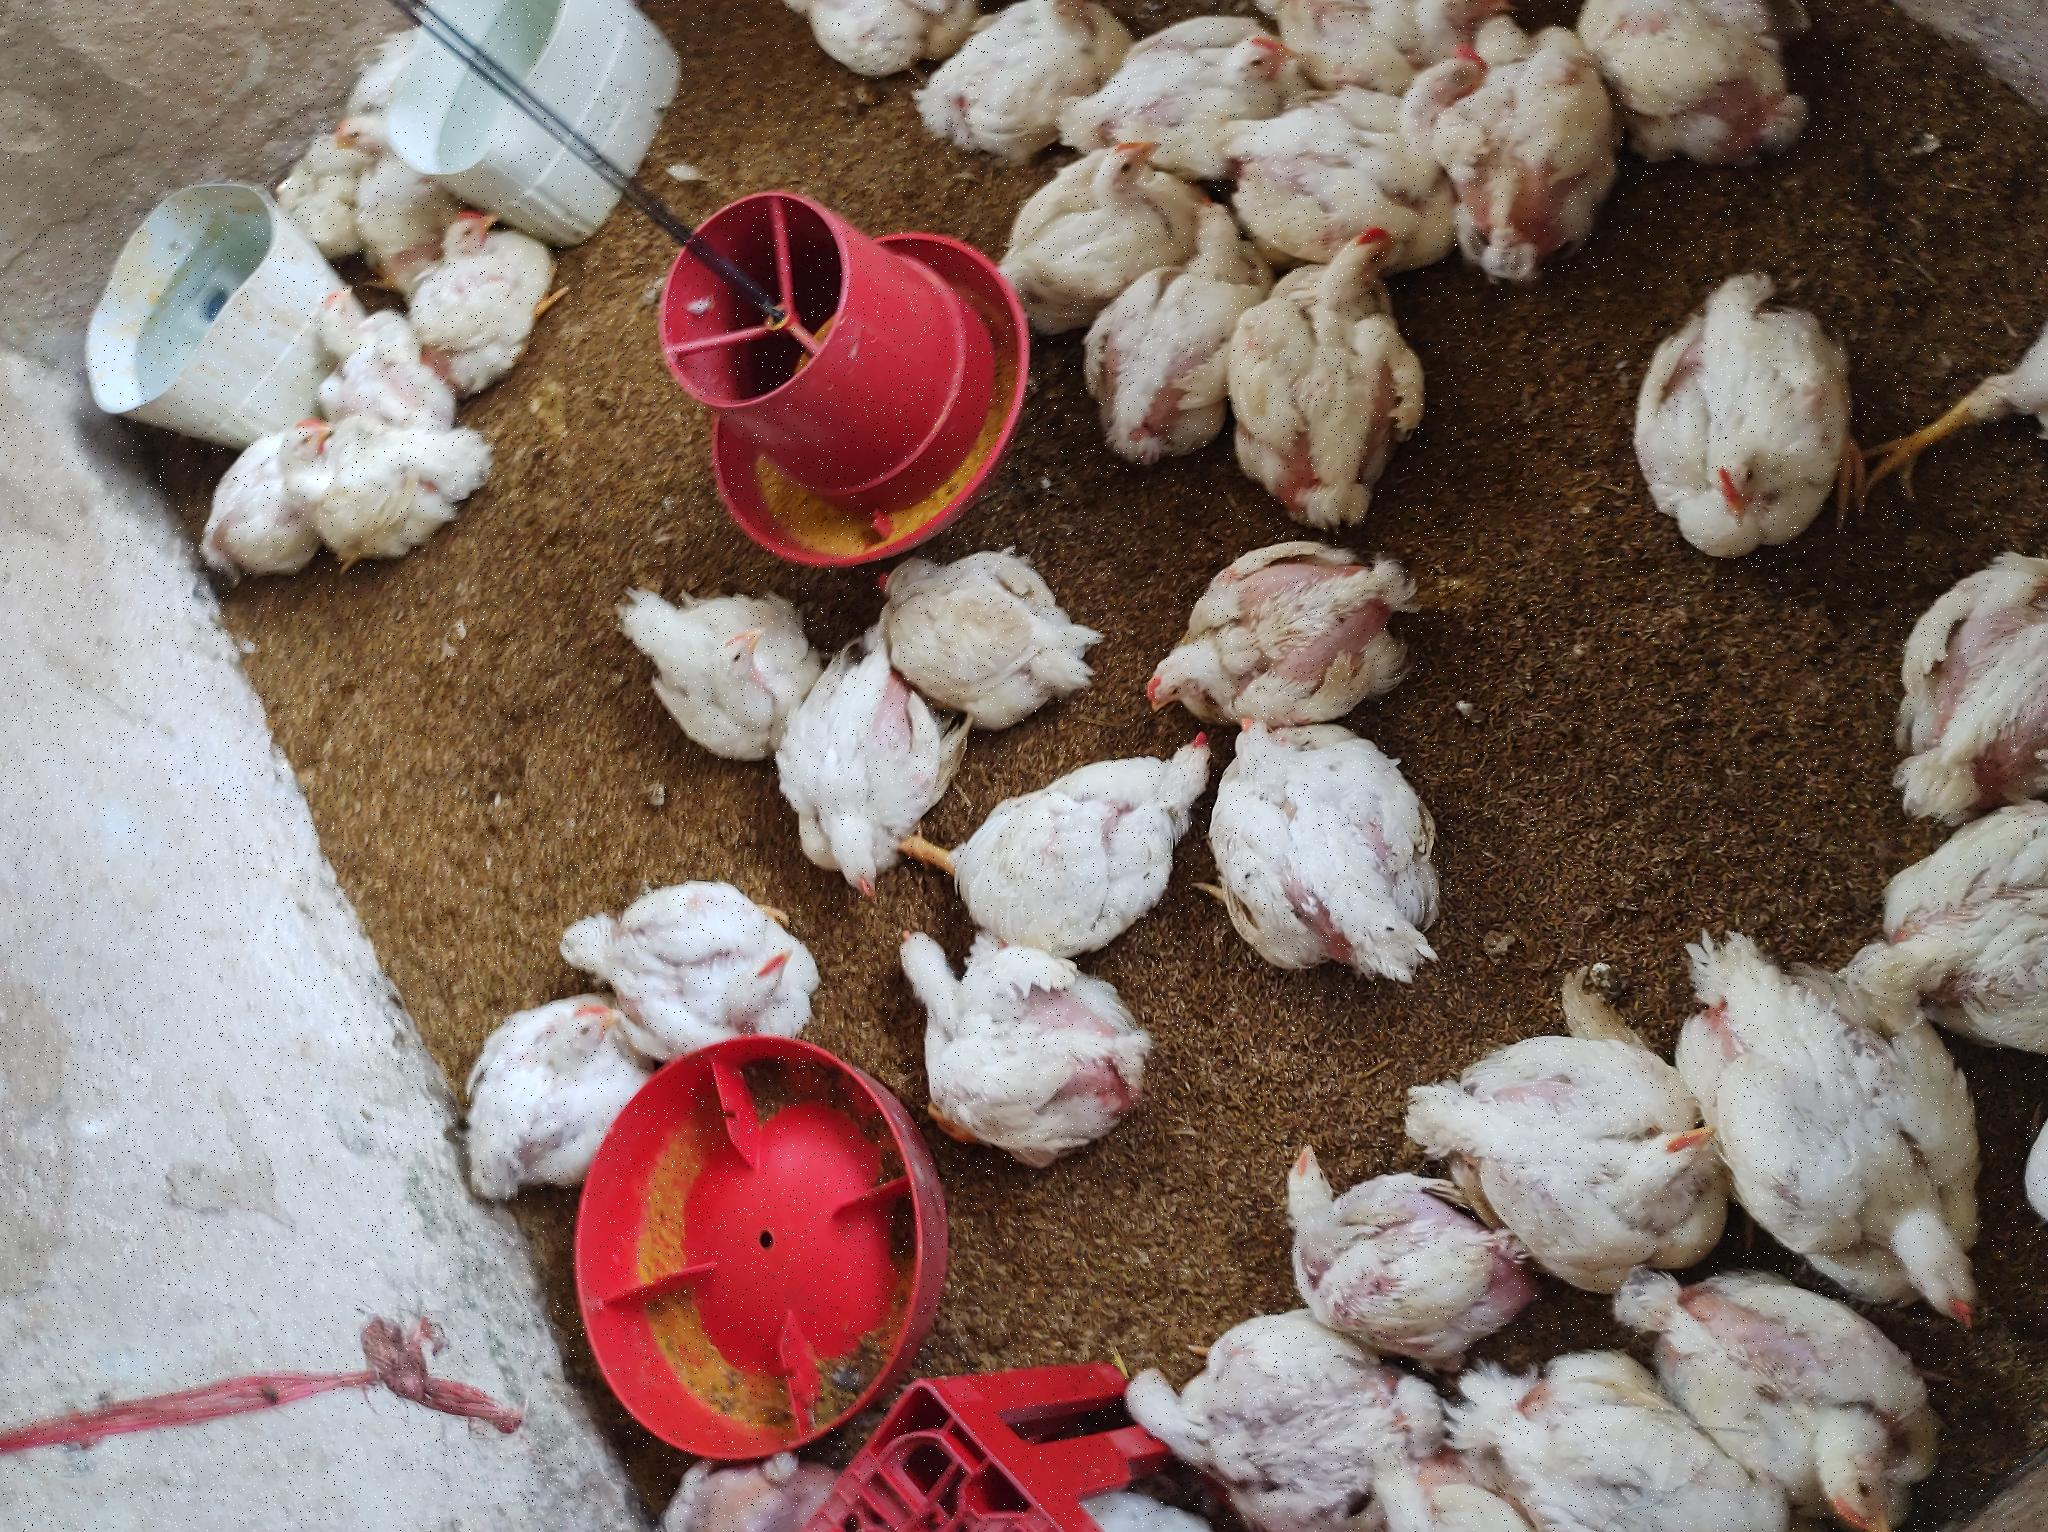Pollos: (362, 875, 598, 1139), (1005, 1218, 1305, 1423), (552, 1204, 801, 1443), (14, 1122, 199, 1421), (592, 949, 780, 1228), (806, 1139, 985, 1413), (457, 586, 656, 830), (212, 1266, 413, 1498), (811, 861, 1015, 1083), (1081, 1077, 1313, 1250), (314, 446, 541, 620), (1195, 978, 1392, 1172), (1371, 1062, 1527, 1278), (656, 785, 899, 922), (1367, 912, 1533, 1099), (808, 607, 960, 800), (981, 274, 1120, 476), (1247, 1440, 1527, 1532), (264, 1432, 508, 1532), (1162, 430, 1334, 565), (965, 193, 1097, 306), (2, 1456, 179, 1532), (1413, 1386, 1491, 1481), (1355, 333, 1430, 401)
